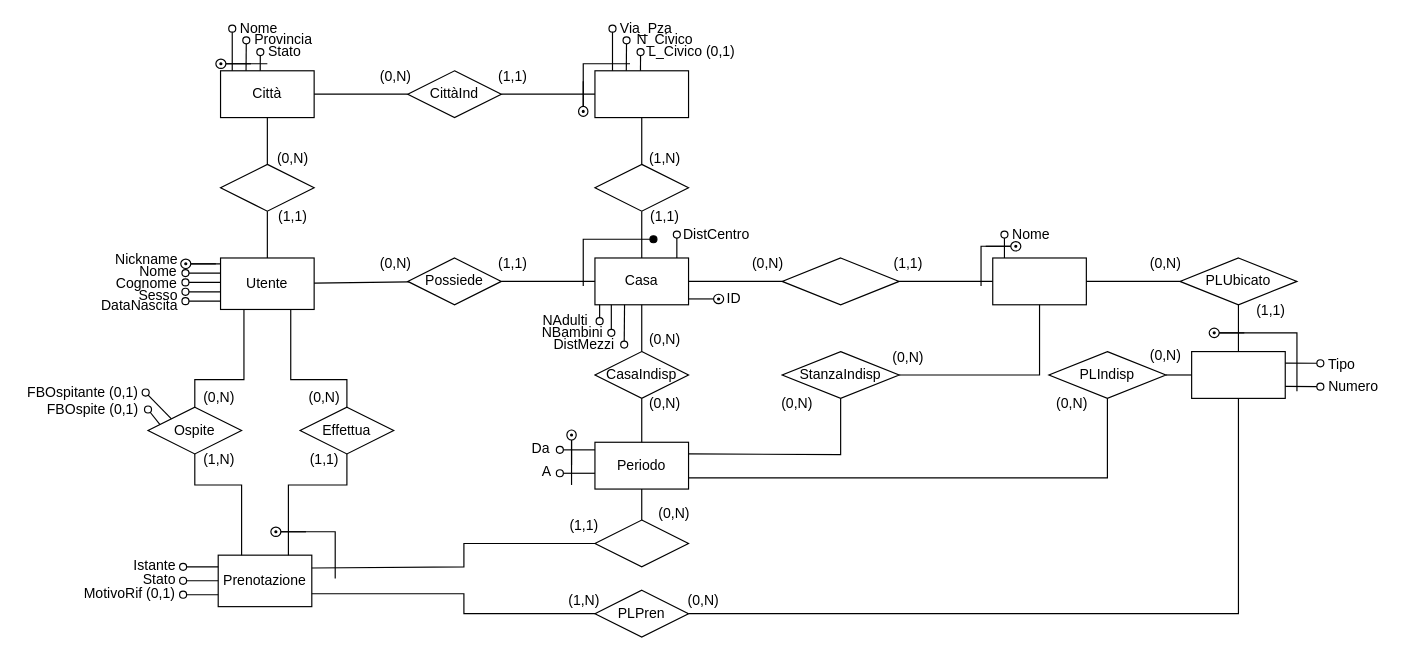
This 1408x658 diagram has some shape labels left out. The shapes that lost their labels are listed below. From the top down, each one's centre as x and y in pixels, then its label:
At point 641,94: "Indirizzo".
At point 266,187: "Risiede".
At point 641,187: "CasaUbicata".
At point 840,281: "StanzaUbicata".
At point 1039,281: "Stanza".
At point 1237,374: "PostoLetto".
At point 641,543: "PeriodoPren".
